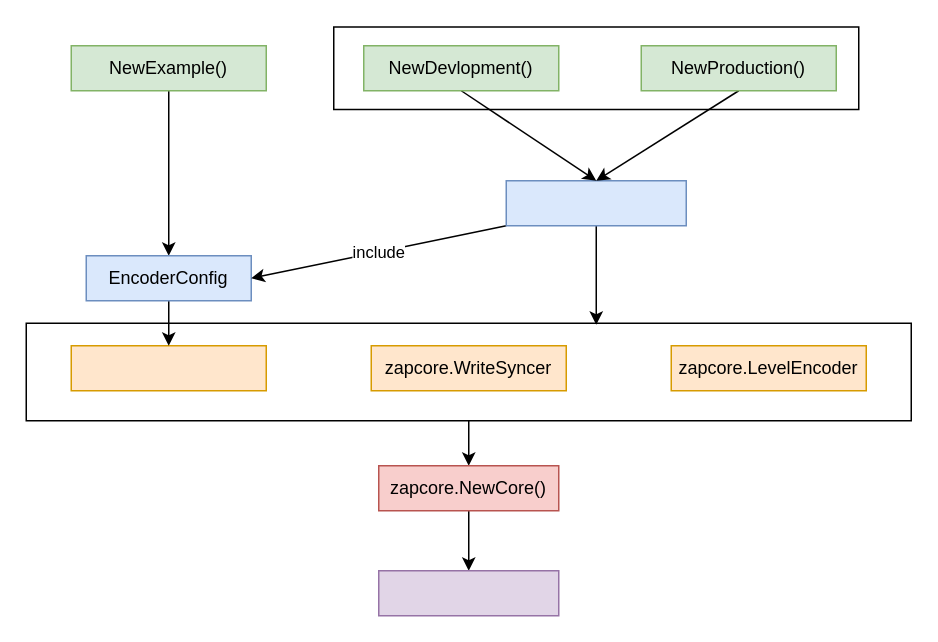
Some shapes in this 938 by 642 pixel diagram are drawn without their labels. Each missing label, with the centre of its shape:
"zap.Config" goes at (x=595, y=202).
"zap.New()" goes at (x=468, y=592).
"zapcore.Encoder" goes at (x=168, y=367).
